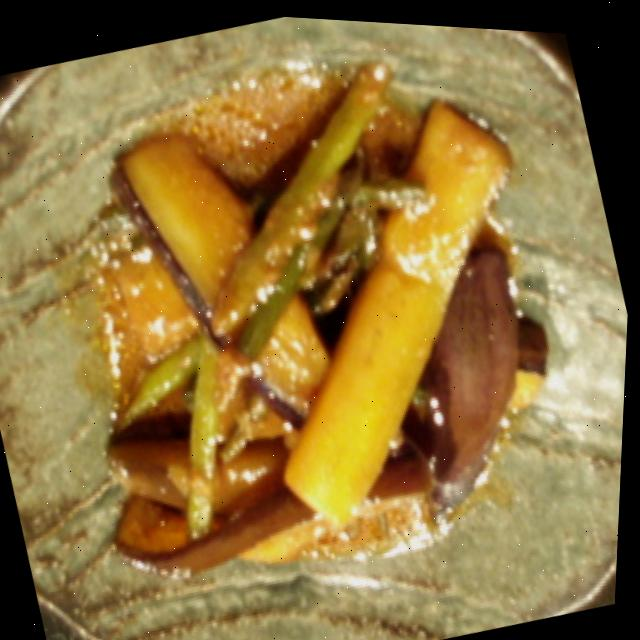鸡蛋料理: (0, 2, 633, 640)
